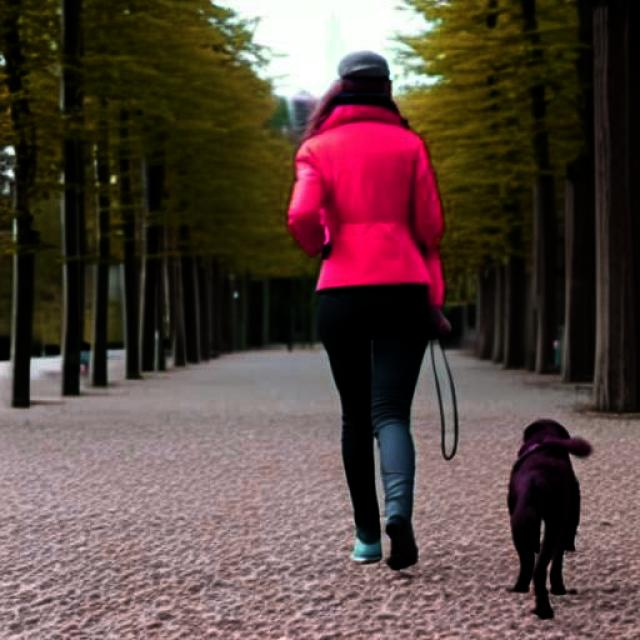Unleashed_Dog: (316, 292, 593, 620)
